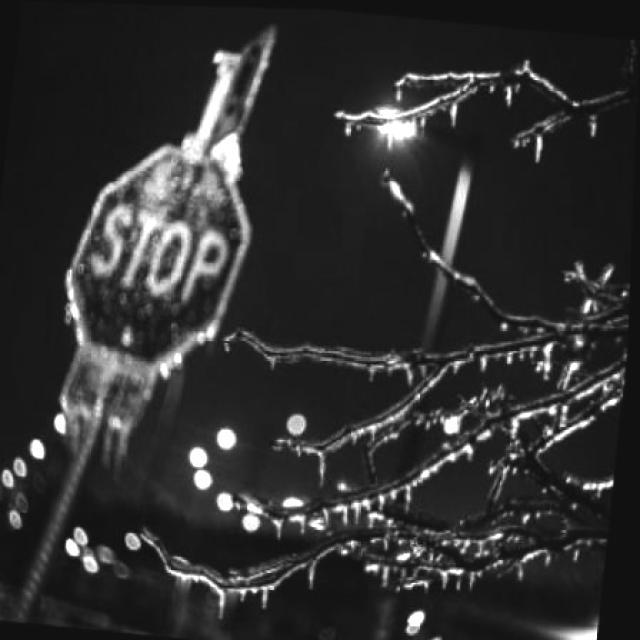stop_sign: (61, 135, 260, 374)
